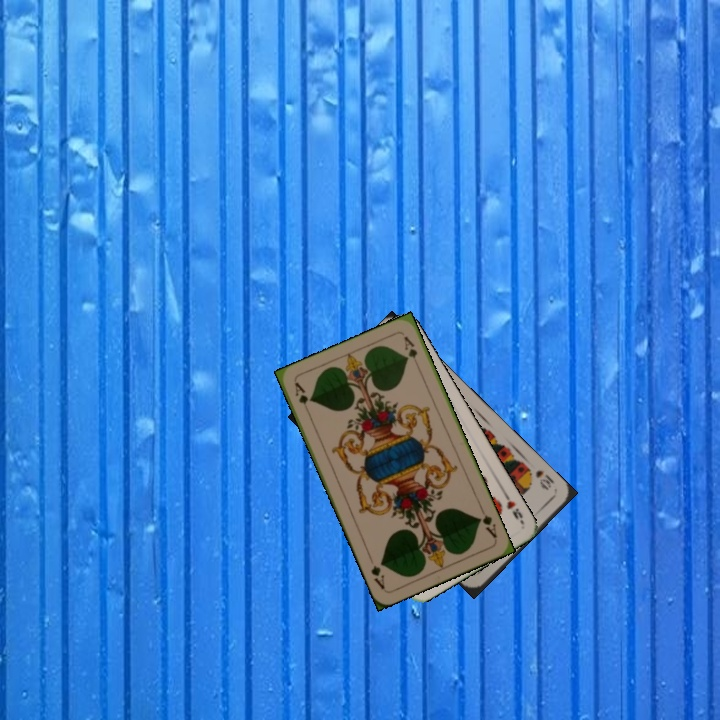GA: (473, 504, 500, 541), (291, 378, 313, 417)
H9: (500, 488, 525, 522)
S10: (531, 466, 556, 493)
